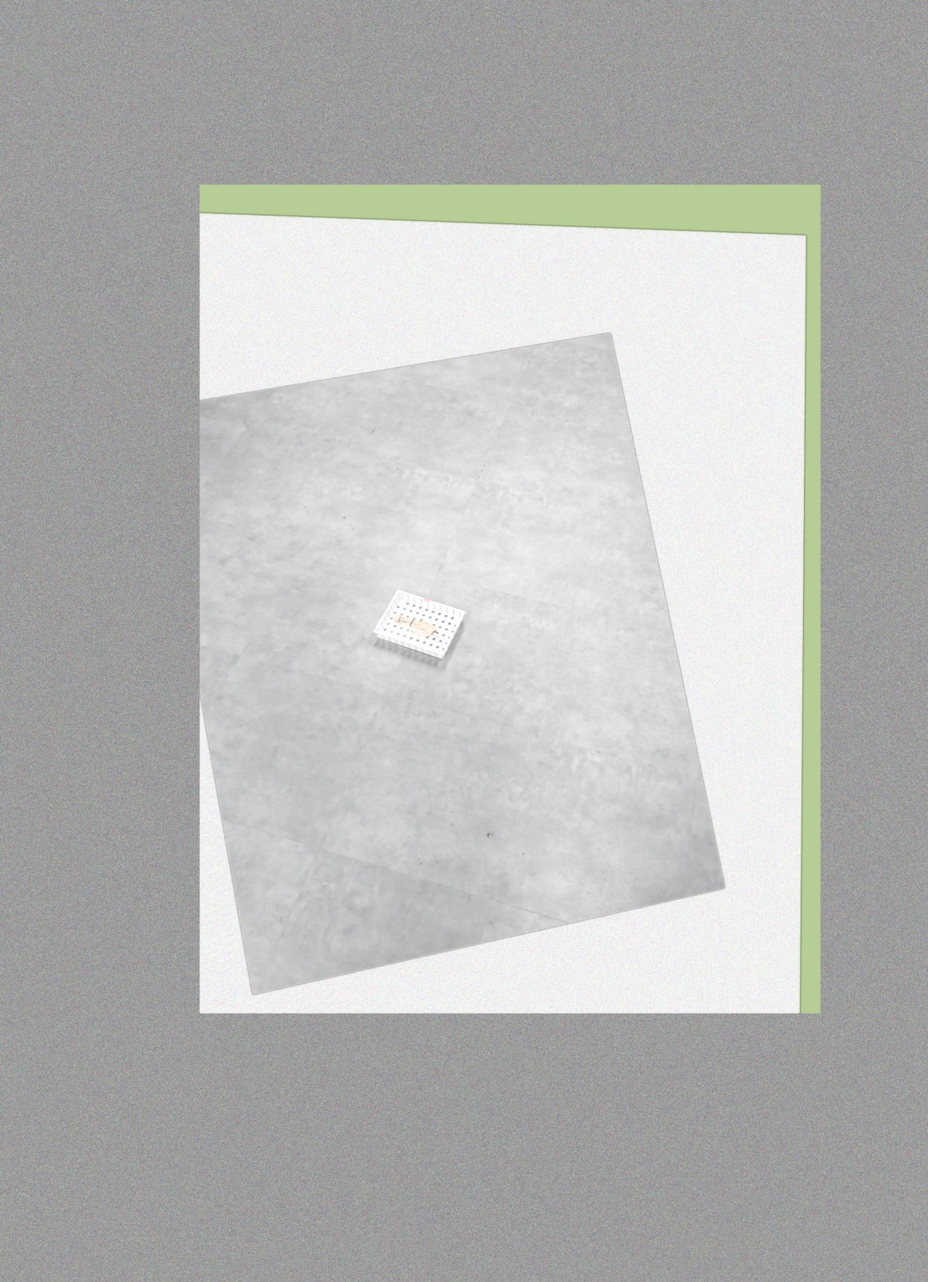basket: (372, 587, 468, 663)
mannequin: (394, 615, 441, 638)
